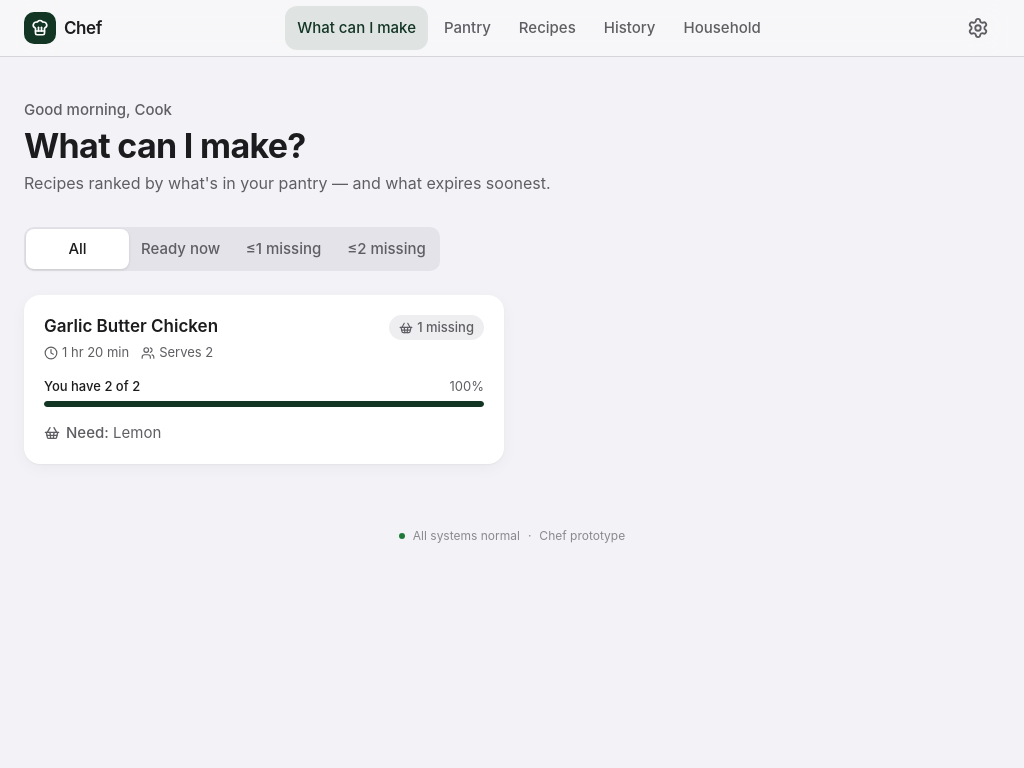
Test: WhatCanIMakePage › filters by how many ingredients are missing
Check: the list named "Suggested recipes" is shown, box [24, 295, 504, 464]
Click the radio button labelled "Ready now". click: {"x": 180, "y": 249}
box: [129, 229, 232, 269]
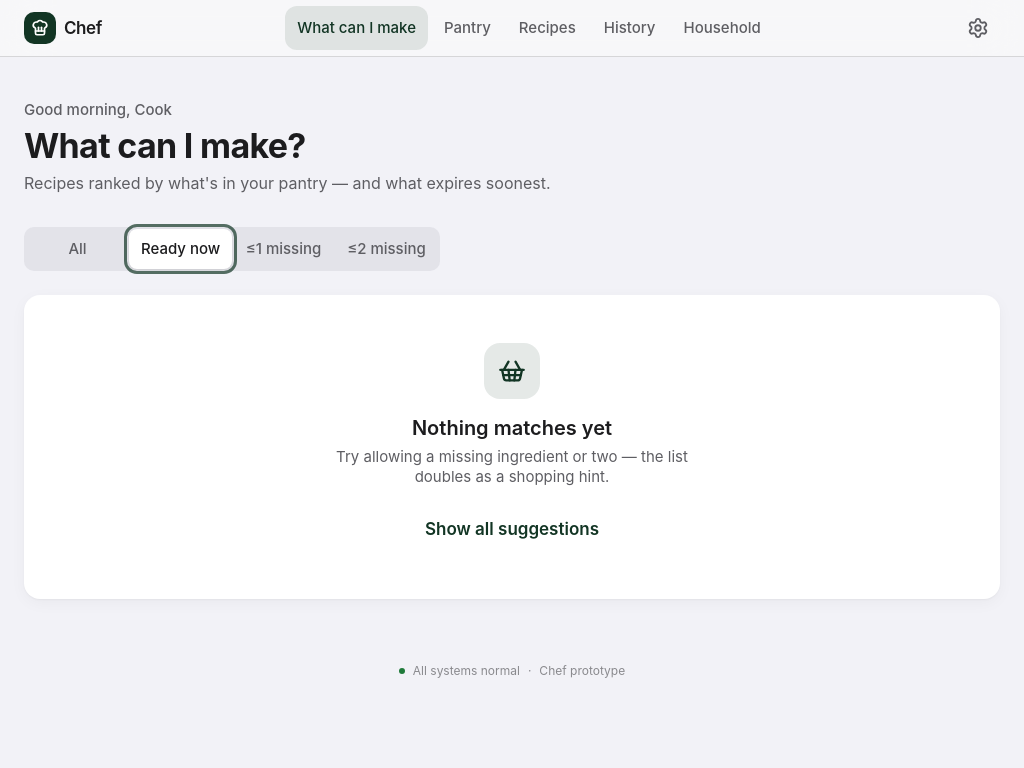
Check: the heading "Nothing matches yet" is shown, box [412, 415, 612, 441]
Click the button "Show all suggestions". click: {"x": 512, "y": 529}
box: [409, 507, 615, 551]
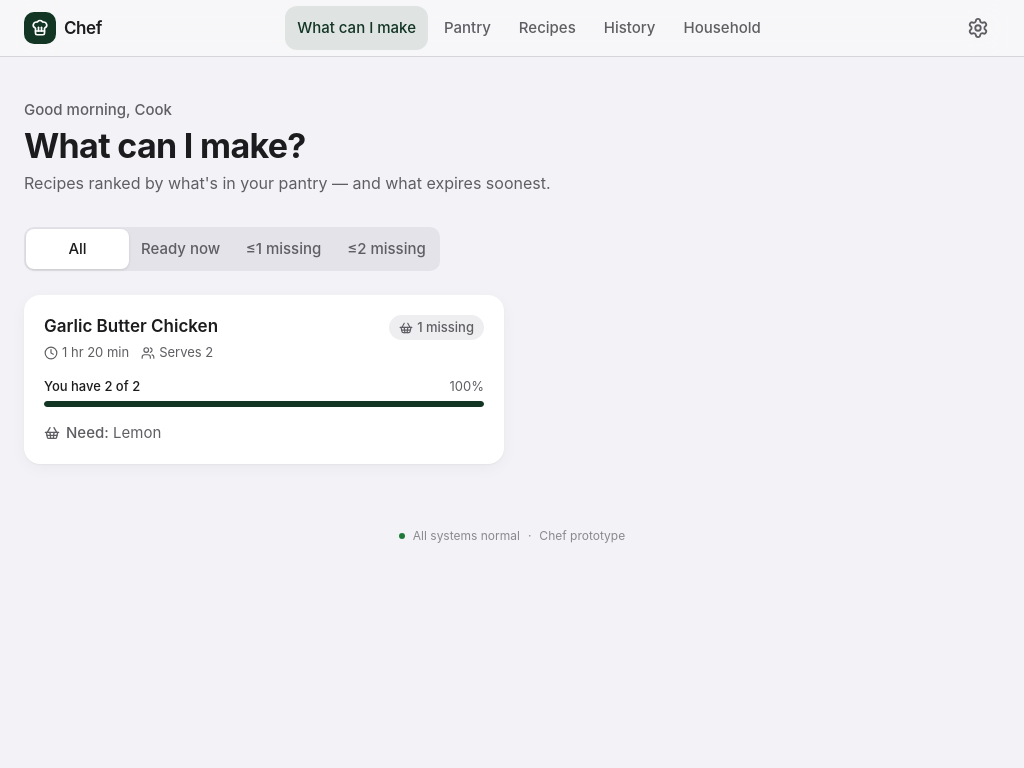
Check: the heading "Garlic Butter Chicken" is shown, box [44, 315, 218, 338]
